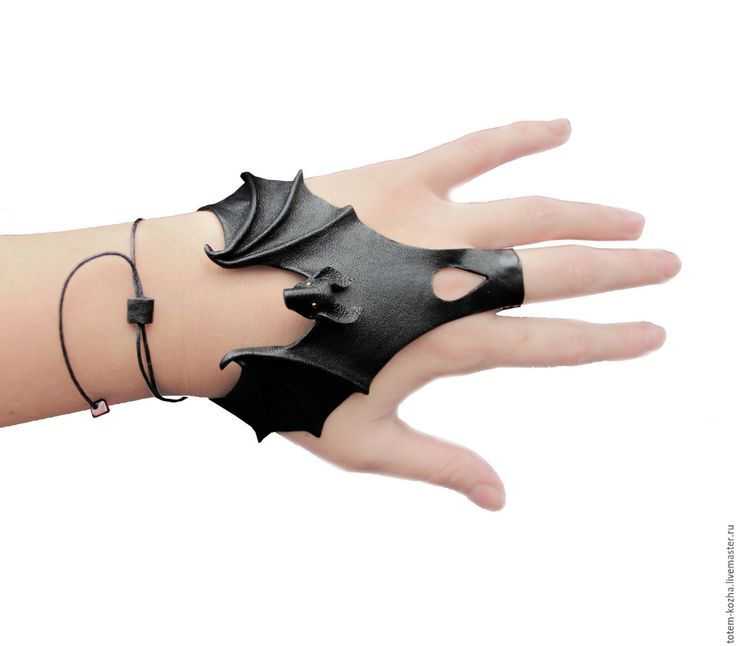cuero: (194, 169, 526, 442)
